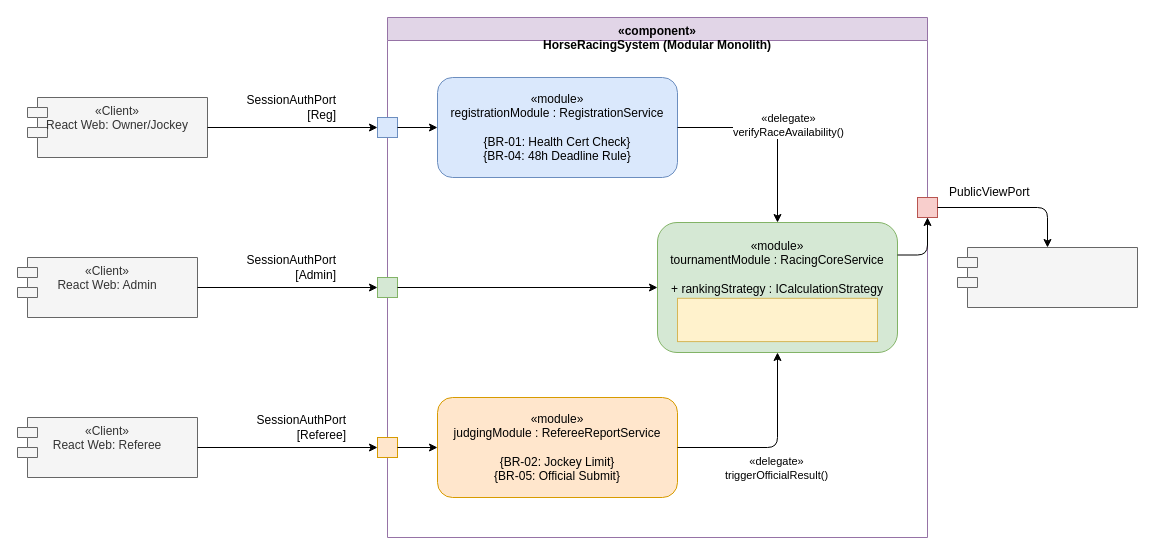
Image size: 1155x555. Some labels were removed from this diagram. The shapes that lost their labels are listed below. From the top down, each one's centre as x and y in pixels, then its label:
pixel 1047 277: «Client» React Web: Spectator
pixel 777 319: «part» calculationStrategy {BR-03: Formula}
